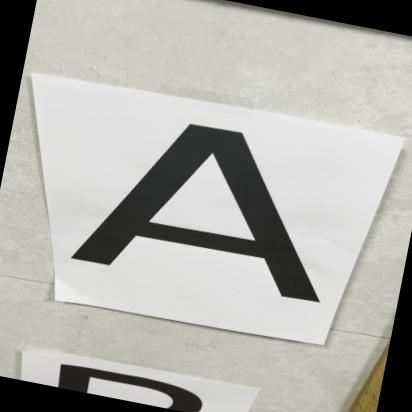seat: (57, 80, 384, 344)
